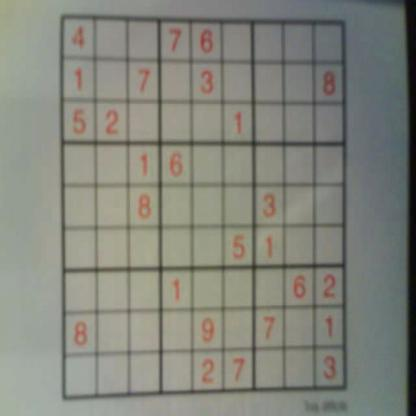sudoku: (54, 9, 354, 404)
